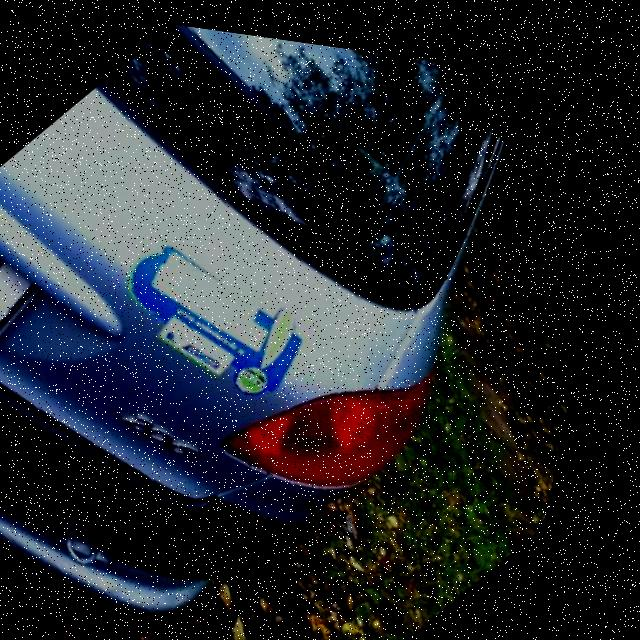license_plate: (0, 193, 79, 379)
